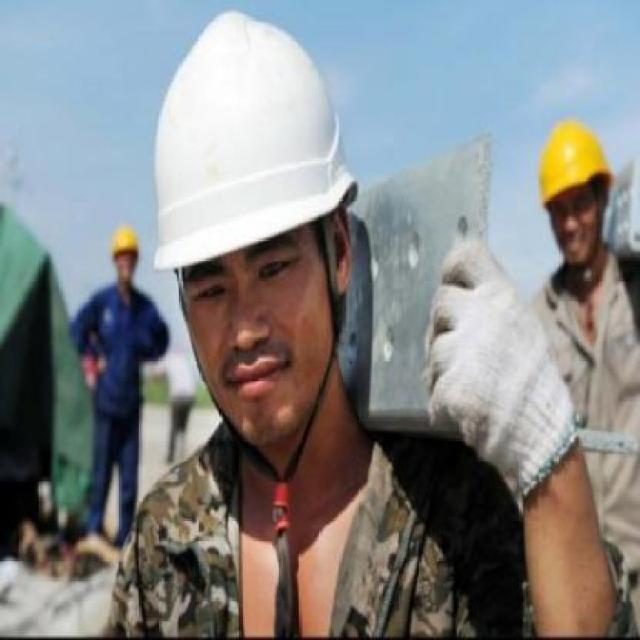safetyhelmet: (153, 13, 355, 269), (539, 121, 611, 206), (110, 225, 137, 256)
